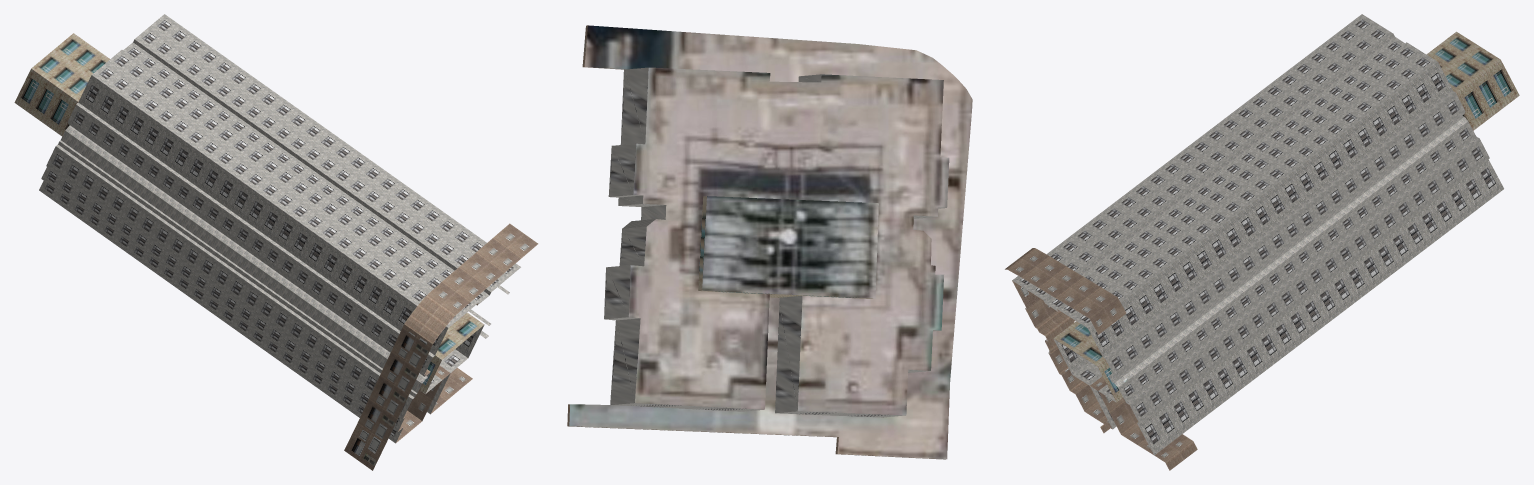
The picture shows the model from 3 angles, left to right: view 1: azimuth 30°, elevation 25°; view 2: azimuth 150°, elevation 25°; view 3: azimuth 270°, elevation 25°; orthographic projection. The views are drawn at different scales.
Bounding box in the file's own units: 71.01 × 67.59 × 93.61.
10 materials, 10 textured.
